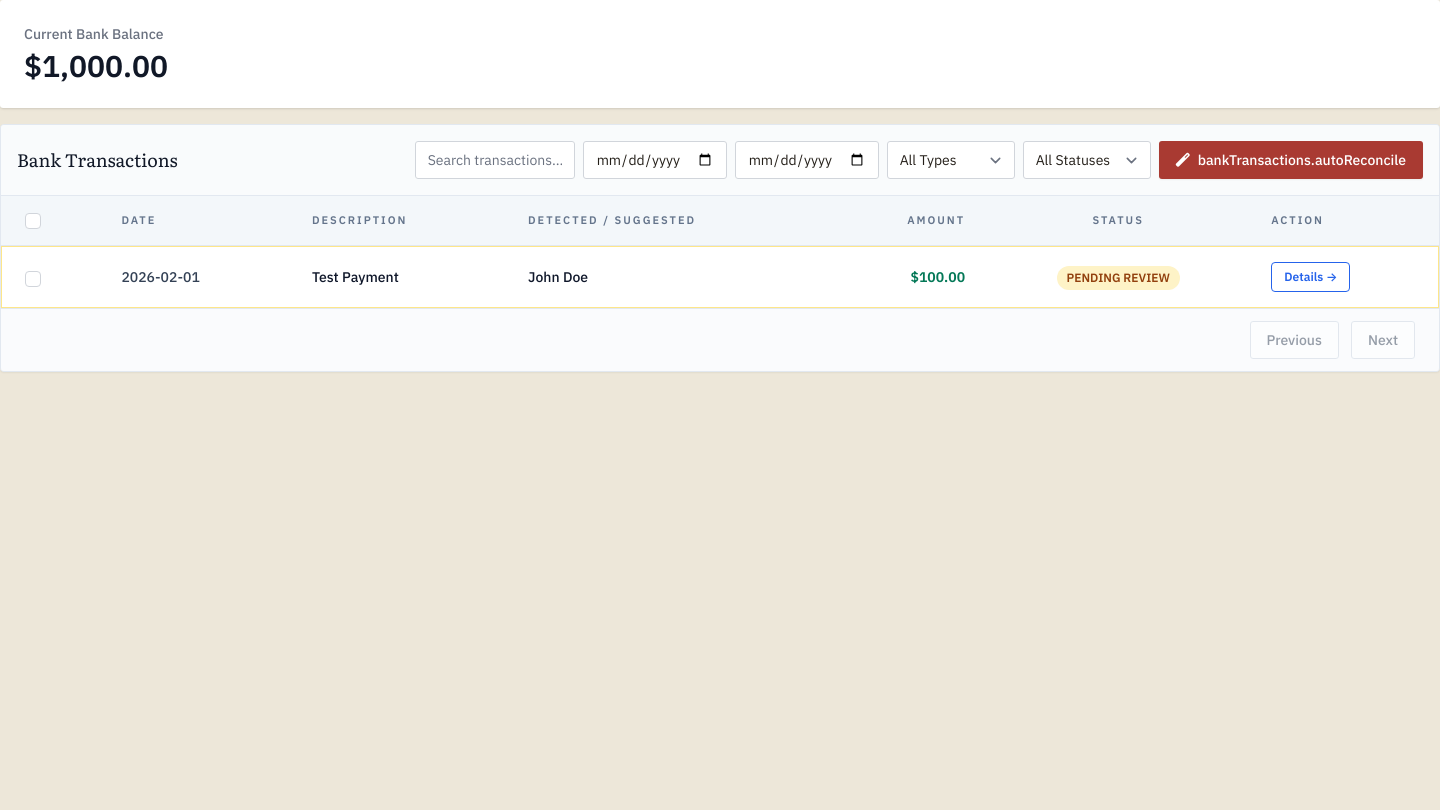
Test: BankTransactionList › closes detail panel when backdrop is clicked
Expected: the text "Test Payment" is shown, [312,268,399,286]
Click the button "Details →". click: (1311, 277)
box: [1271,262,1350,292]
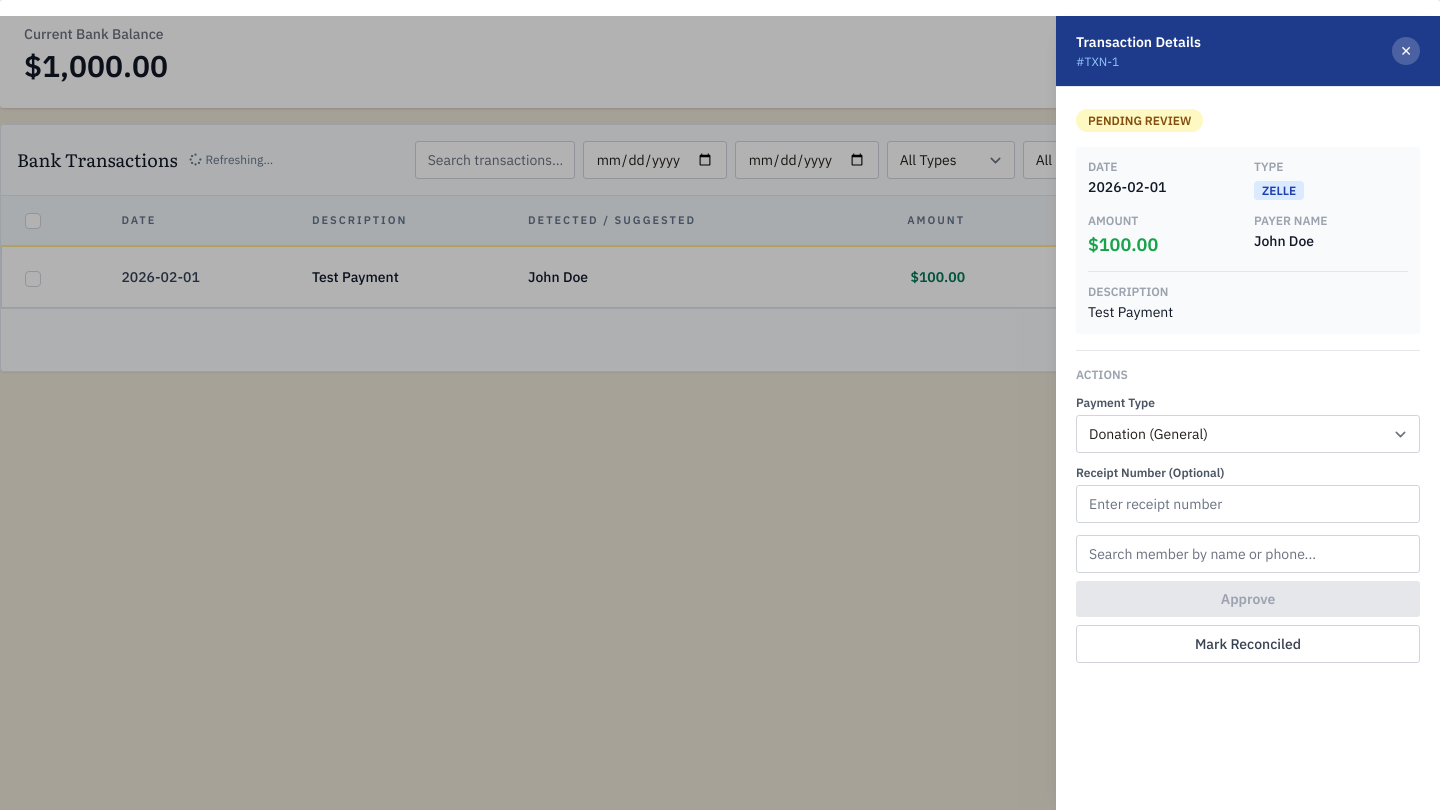
Expected: the dialog "Transaction Details" is shown, [1056,16,1439,809]
Click the element with test id "panel-backdrop". click: (720, 413)
box: [0,16,1439,809]
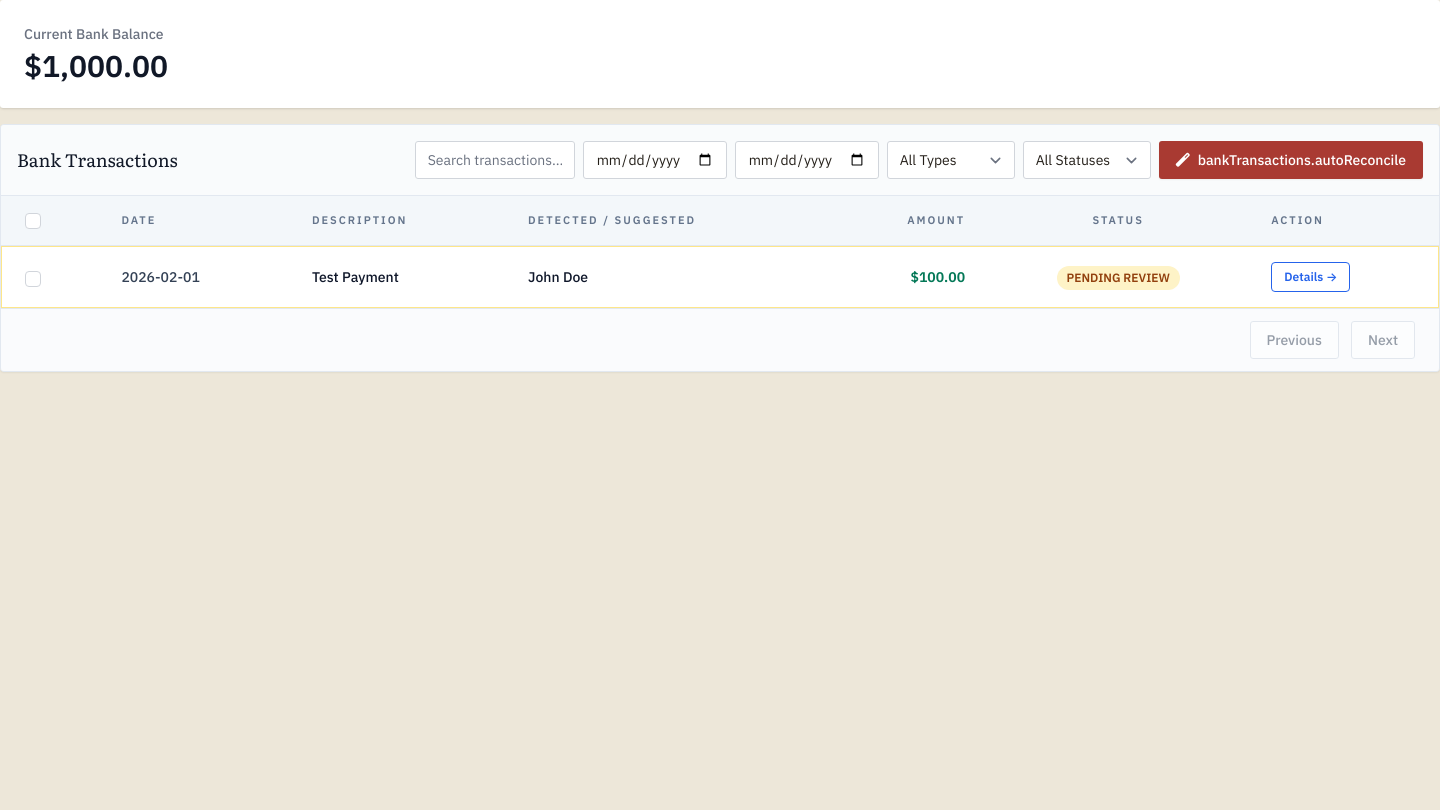
Expected: the text "Transaction Details" is gone
